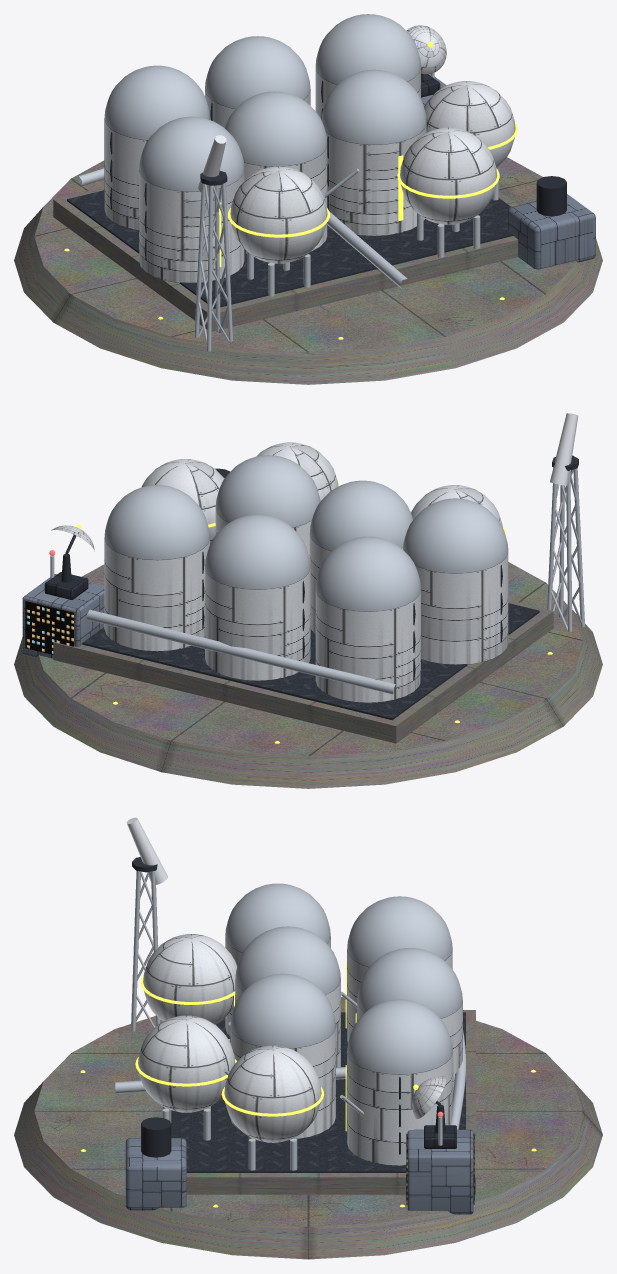
The model's file is tankfarm-T5.glb.
3 views of the same model, one above another, from view 1: azimuth 30°, elevation 25°; view 2: azimuth 150°, elevation 25°; view 3: azimuth 270°, elevation 25° (orthographic).
Visible parts, largest first — view 1: object 1, object 12, object 13, object 62, object 68, object 35, object 49, object 50, object 43, object 22, object 15, object 29 (+11 smaller); view 2: object 1, object 12, object 14, object 21, object 28, object 35, object 13, object 22, object 29, object 15, object 36, object 50 (+10 smaller); view 3: object 1, object 13, object 56, object 68, object 28, object 62, object 12, object 29, object 50, object 15, object 22, object 113 (+12 smaller).
Part boxes in pixels (x1,y1,x2,y2): object 1: [14, 157, 602, 384]; object 12: [53, 187, 518, 331]; object 13: [67, 190, 513, 308]; object 62: [230, 166, 327, 263]; object 68: [400, 127, 497, 224]; object 35: [139, 170, 244, 282]; object 49: [325, 123, 426, 235]; object 50: [321, 69, 426, 144]; object 43: [225, 91, 327, 166]; object 22: [205, 36, 310, 108]; object 15: [104, 65, 209, 139]; object 29: [315, 14, 420, 84]; object 1: [14, 562, 602, 788]; object 12: [53, 600, 553, 743]; object 14: [315, 590, 420, 702]; object 21: [205, 567, 310, 680]; object 28: [104, 538, 209, 651]; object 35: [415, 552, 508, 664]; object 13: [82, 603, 539, 720]; object 22: [205, 514, 310, 589]; object 29: [104, 485, 209, 559]; object 15: [315, 536, 420, 611]; object 36: [403, 498, 508, 573]; object 50: [215, 455, 320, 527]; object 1: [14, 997, 602, 1259]; object 13: [171, 1012, 465, 1172]; object 56: [224, 1045, 321, 1142]; object 68: [138, 1015, 235, 1112]; object 28: [347, 1052, 452, 1165]; object 62: [143, 934, 236, 1024]; object 12: [161, 1010, 475, 1194]; object 29: [347, 999, 452, 1074]; object 50: [230, 973, 335, 1048]; object 15: [347, 896, 452, 966]; object 22: [357, 948, 462, 1018]; object 113: [407, 1129, 473, 1214].
Size of the model in its own units: 5.8 by 2.51 by 5.8.
Materials: 13 (7 with a texture image).
